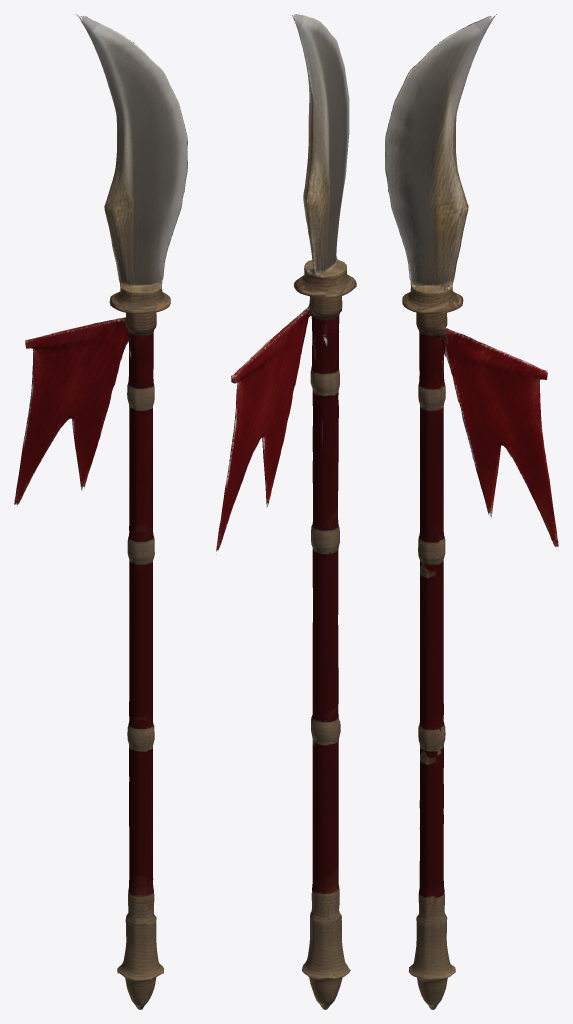
File: look-weapon-t5-rodin.glb
3 renders of one model, left to right at view 1: azimuth 90°, elevation 25°; view 2: azimuth 150°, elevation 25°; view 3: azimuth 270°, elevation 25°, orthographic. The views are drawn at different scales.
Parts seen in each view (by area): view 1: model; view 2: model; view 3: model.
Part boxes in pixels (x1,y1,x2,y2): model: [14, 14, 187, 1009]; model: [216, 14, 356, 1009]; model: [385, 14, 558, 1009].
Bounding box in the file's own units: 0.1375 × 1.9 × 0.3001.
Materials: 1 (1 with a texture image).
